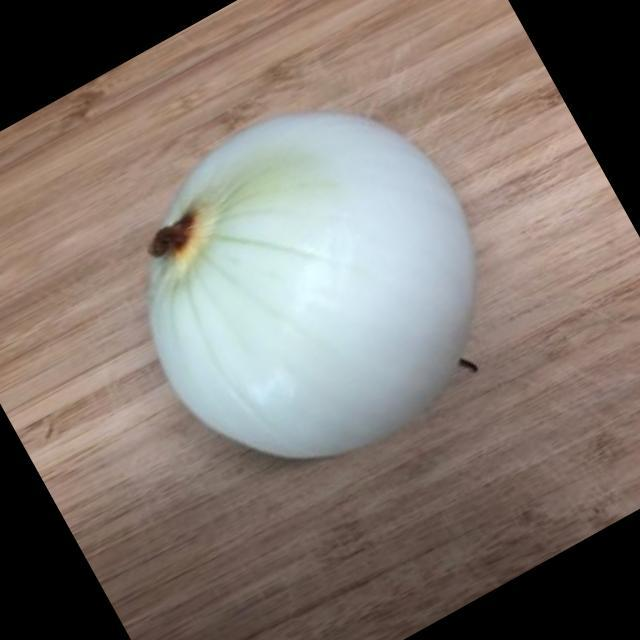Onion: (147, 116, 474, 458)
